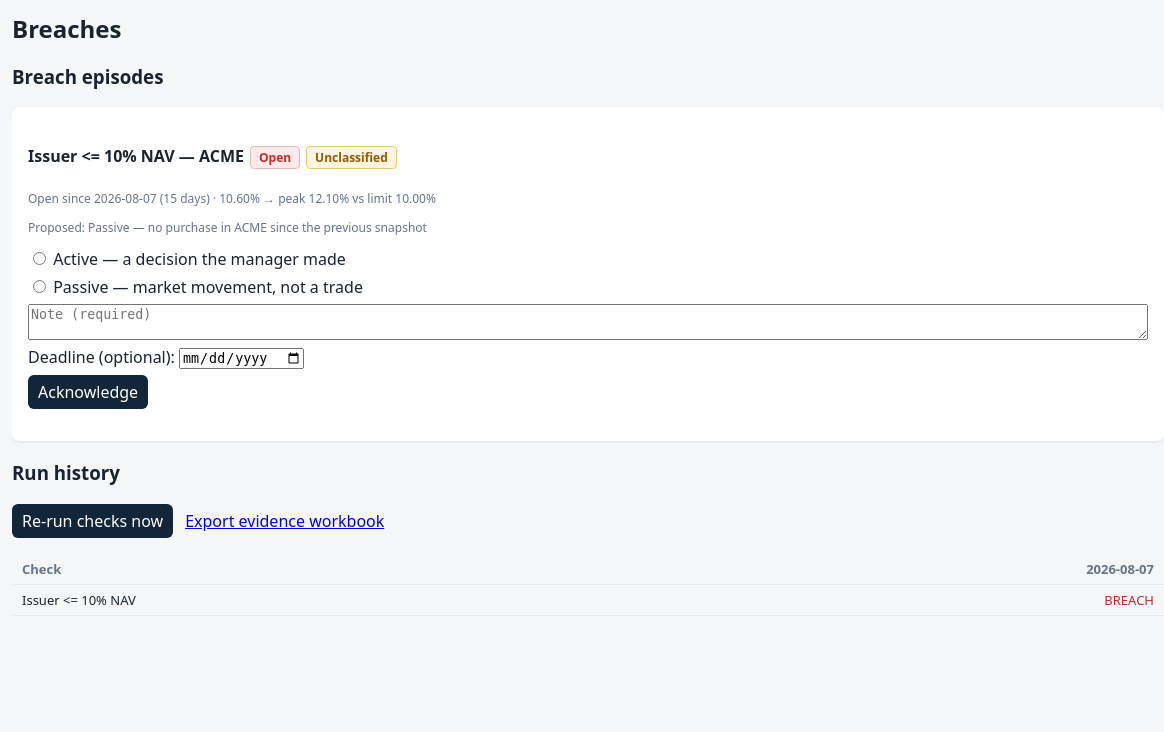
Test case: breach register › surfaces the server's 422 message when acknowledging is refused, and keeps the typed note
Check: the text box with placeholder "Note (required)" is shown, box [28,304,1148,340]
Click the radio button labelled "Passive — market movement, not a trade" at x=40, y=286, box [33,280,46,293]
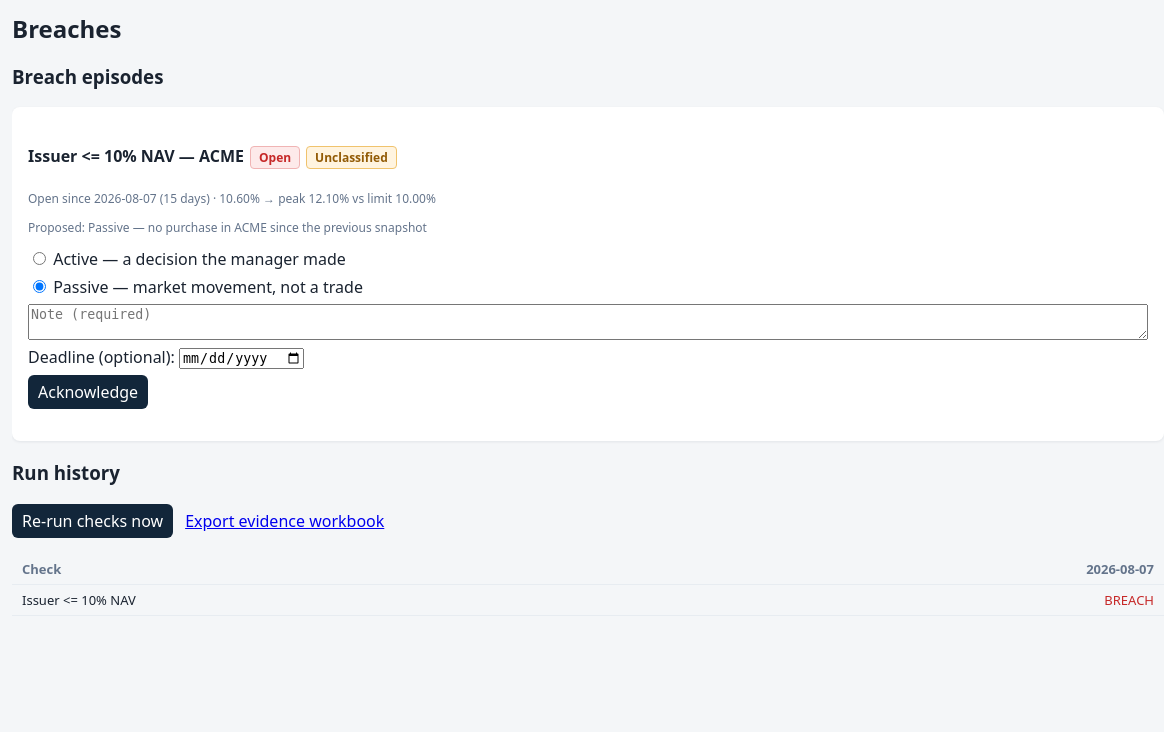
Type "someone else already acted" into the text box with placeholder "Note (required)" at x=588, y=322, box [28,304,1148,340]
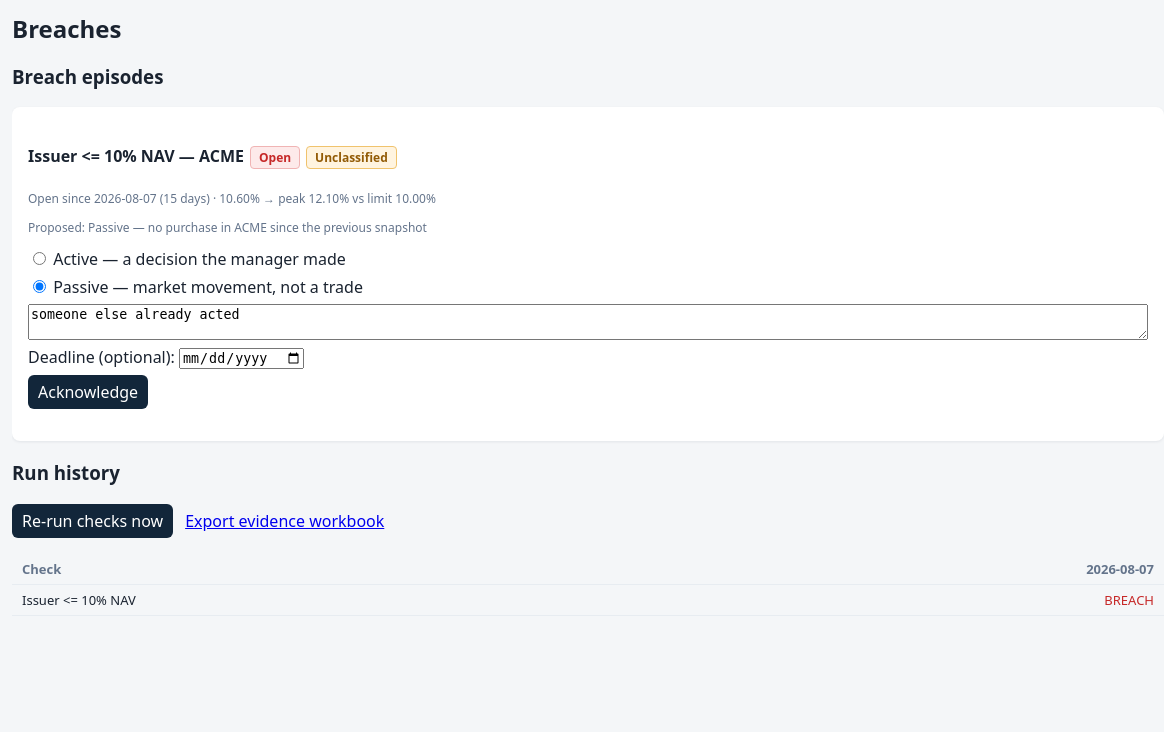
Click the button "Acknowledge" at x=88, y=392, box [28,375,148,409]
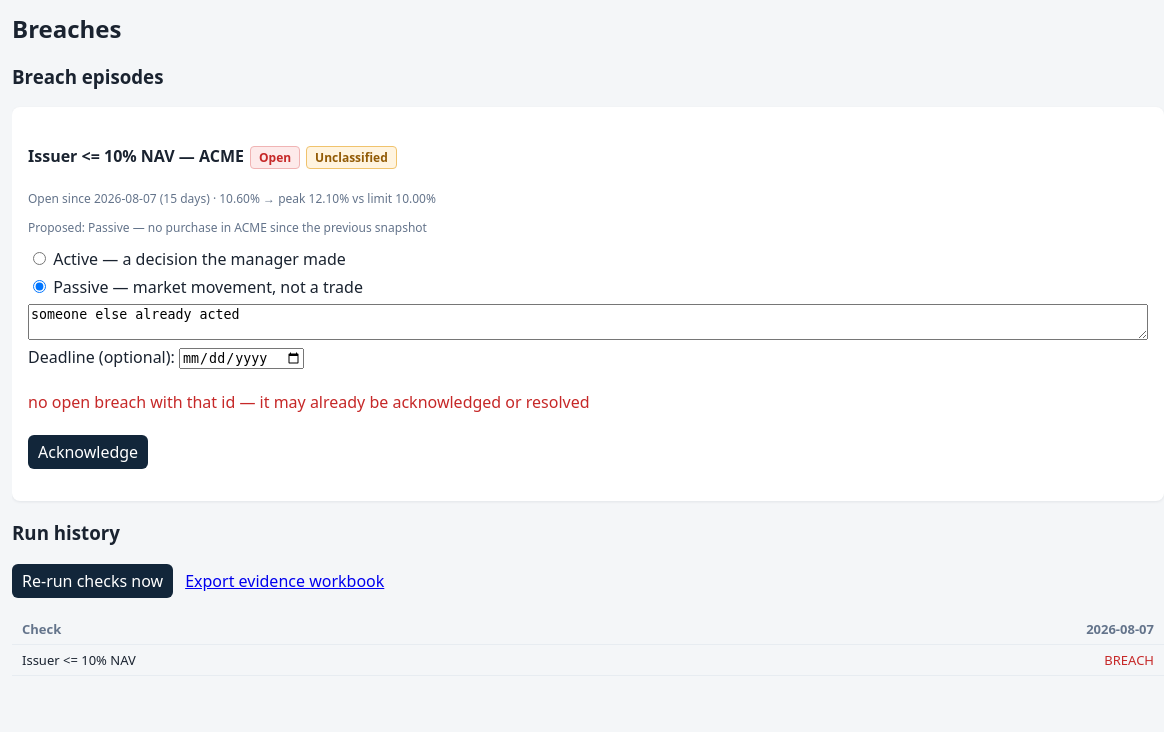
Check: the text "already be acknowledged or resolved" is shown, box [28,391,590,413]
